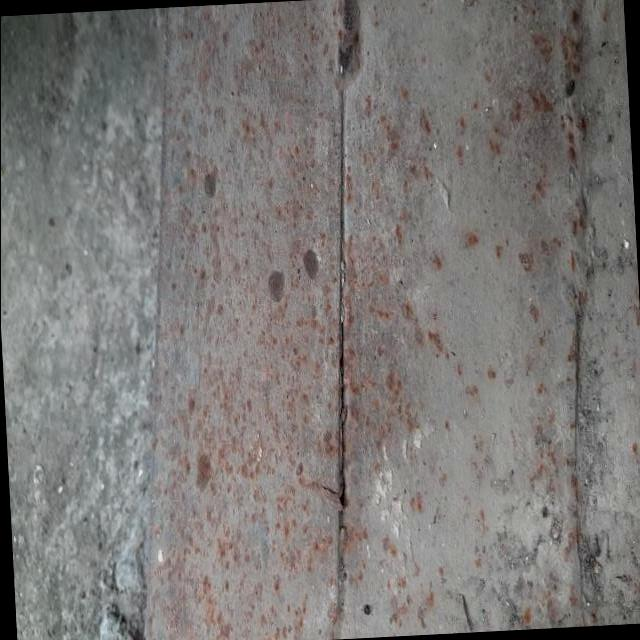defect: (317, 294, 351, 527)
